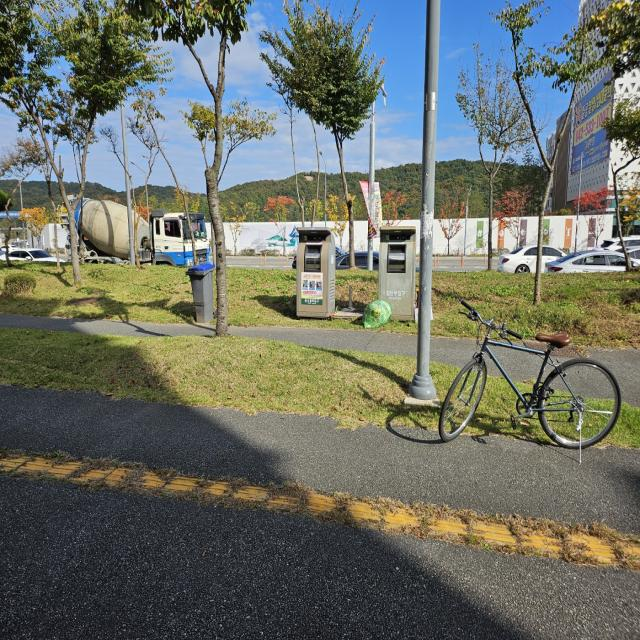CleanNet: (373, 220, 418, 317), (294, 222, 334, 318)
General Waste: (352, 281, 394, 338)
Large Waste Items: (440, 297, 620, 444)
